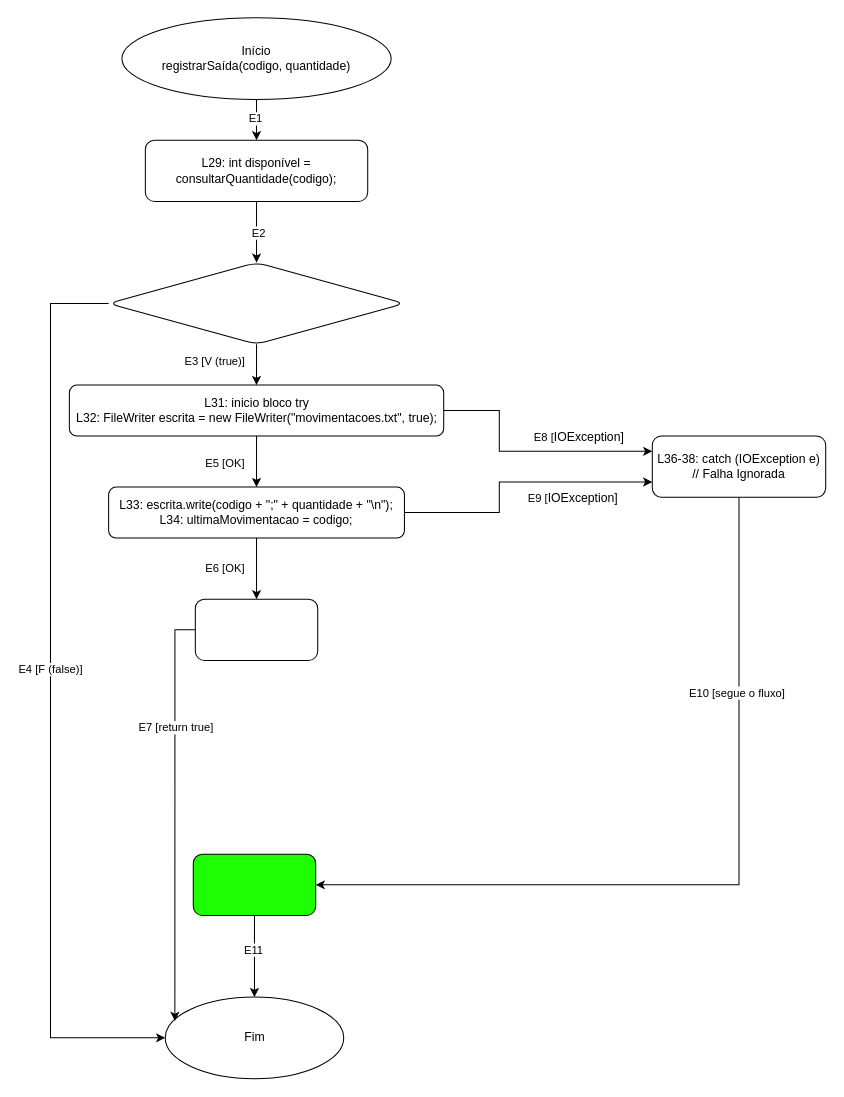
The diagram is 844 pixels wide and 1097 high, and some of its shapes have lost their labels. Here are the shapes that lost their labels. From the top down, the centre of each, then its label:
At point 256,303: "L30: quantidade <= disponivel ?".
At point 256,629: "L35: return true; (saída antecipada)".
At point 254,884: "L40: return false;".
